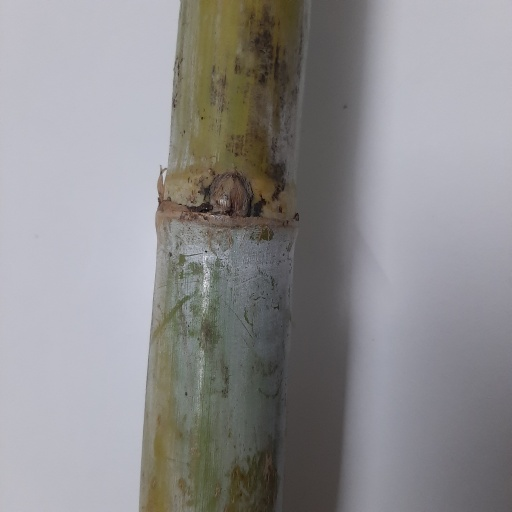Bud: (205, 171, 249, 215)
